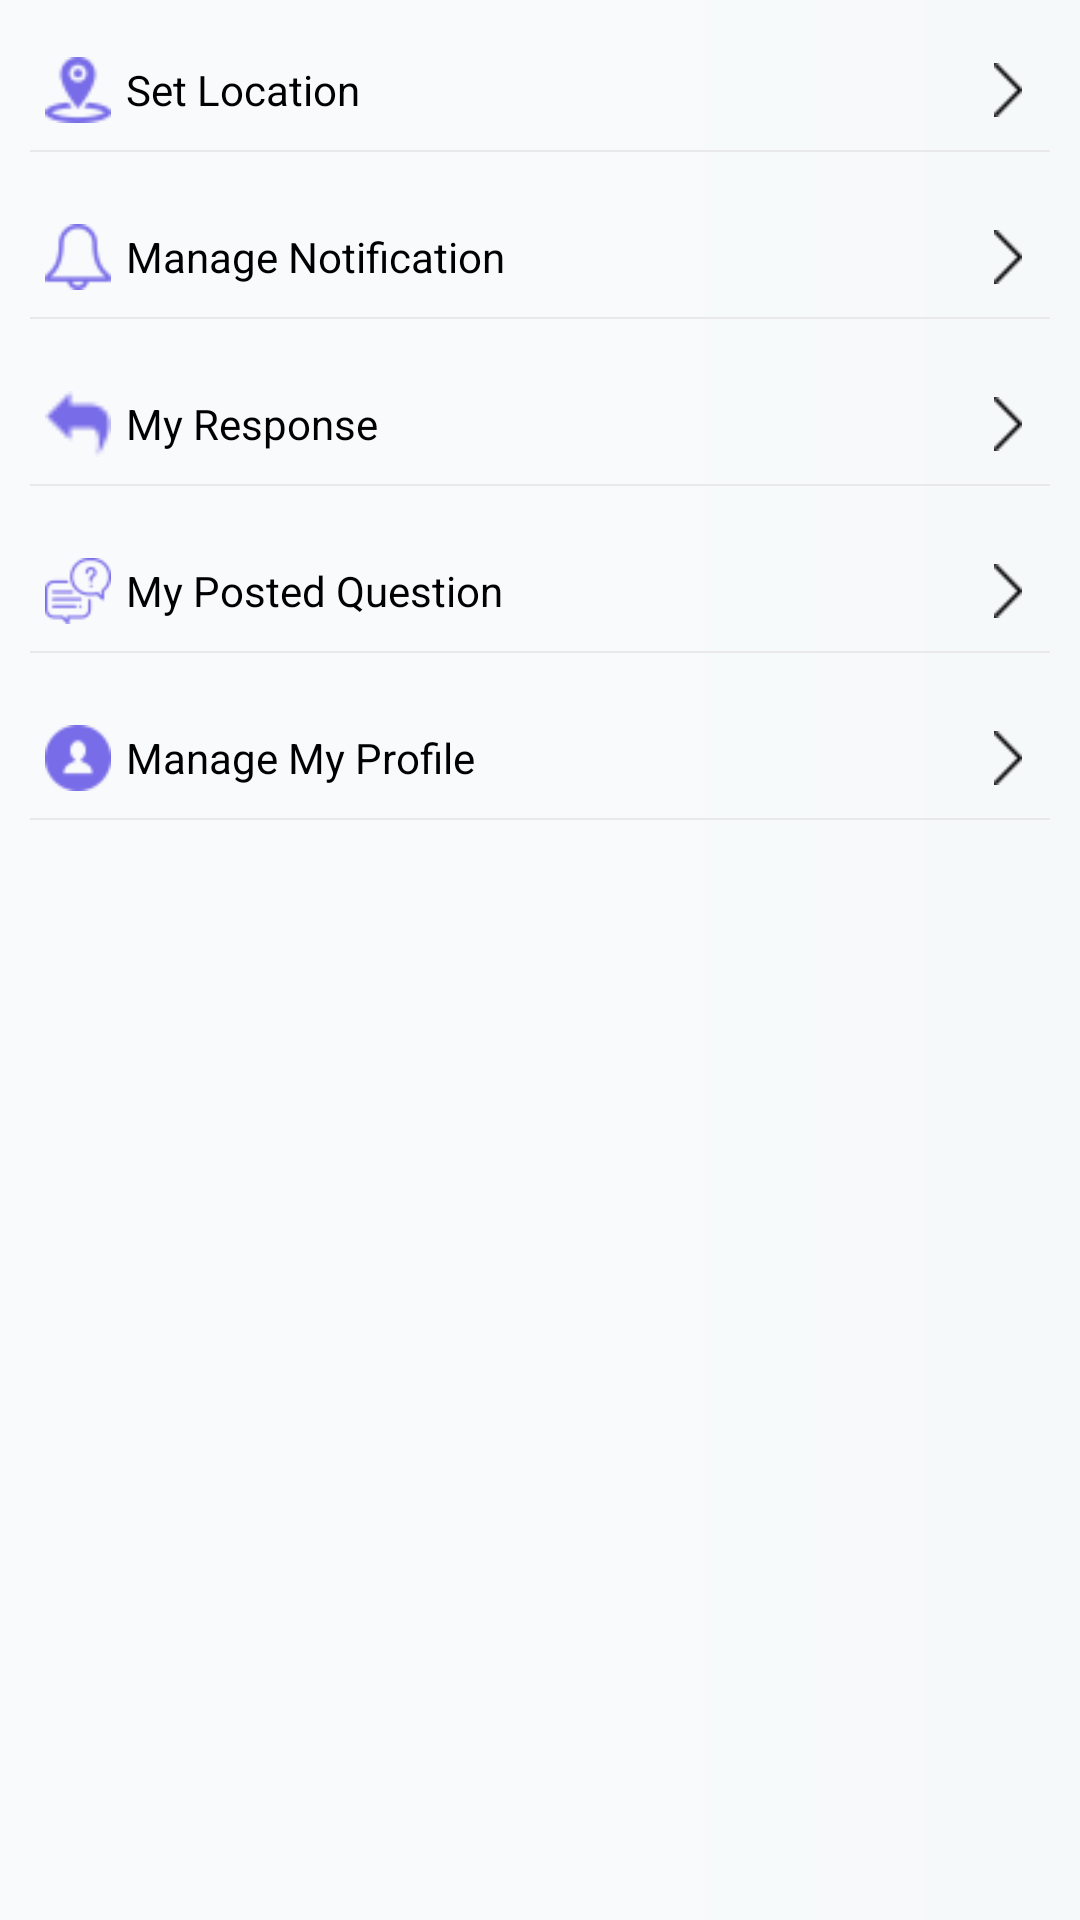

Where icons sit on this 1080w x 1920h app screen, as (x1, y1, x2, y2):
post question: (45, 558, 111, 624)
reply: (45, 393, 111, 453)
